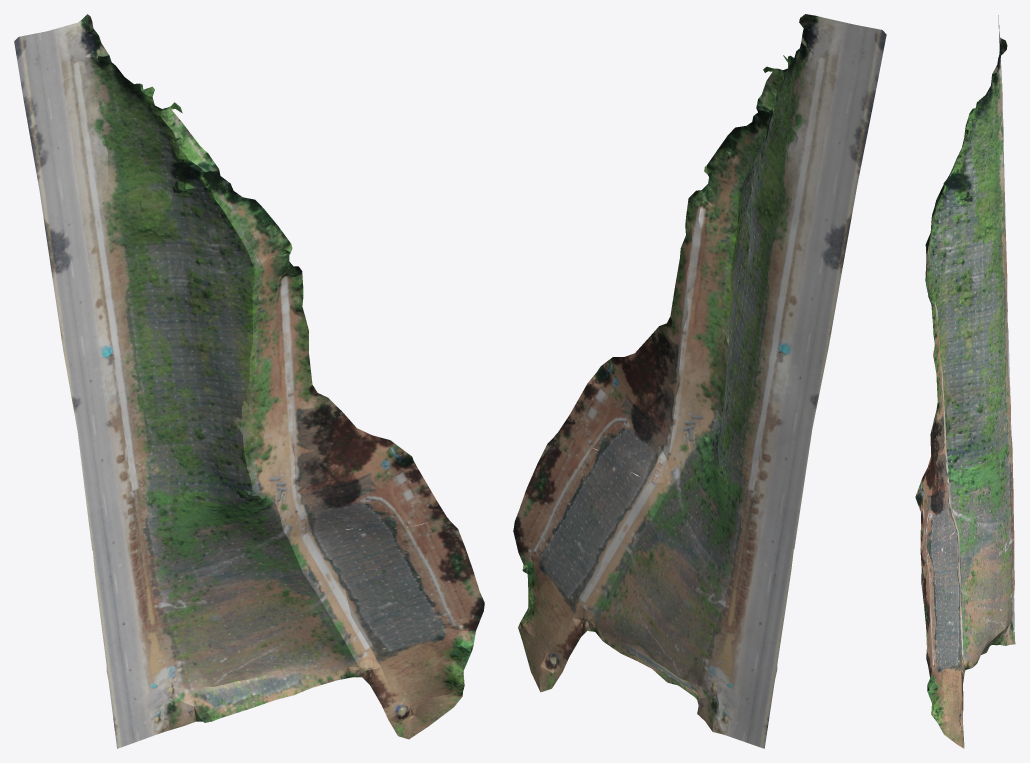
3 renders of one model, left to right at view 1: azimuth 30°, elevation 25°; view 2: azimuth 150°, elevation 25°; view 3: azimuth 270°, elevation 25°, orthographic. The views are drawn at different scales.
Visible parts, largest first — view 1: Bloco 1; view 2: Bloco 1; view 3: Bloco 1.
Part boxes in pixels (x1,y1,x2,y2): Bloco 1: (14, 14, 484, 748); Bloco 1: (513, 14, 886, 748); Bloco 1: (915, 15, 1015, 748).
Bounding box in the file's own units: 86.67 × 152 × 23.12.
Materials: 1 (1 with a texture image).
